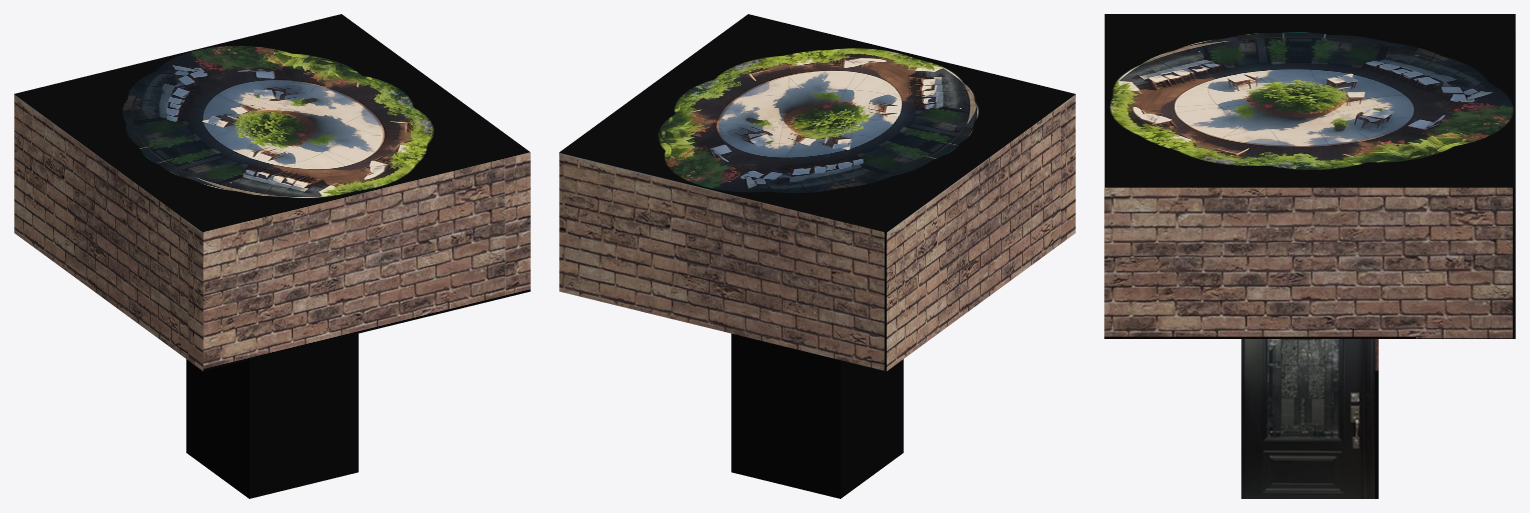
File: penthouse.gltf
3 renders of one model, left to right at view 1: azimuth 30°, elevation 25°; view 2: azimuth 150°, elevation 25°; view 3: azimuth 270°, elevation 25°, orthographic. The views are drawn at different scales.
Parts seen in each view (by area): view 1: Cube; view 2: Cube; view 3: Cube.
Boxes of the visible parts, x1,y1,x2,y2 form: Cube: (14,14,530,498); Cube: (559,14,1075,498); Cube: (1104,14,1515,498).
Size of the model in its own units: 5.98 by 5.93 by 5.98.
1 material, 1 textured.
